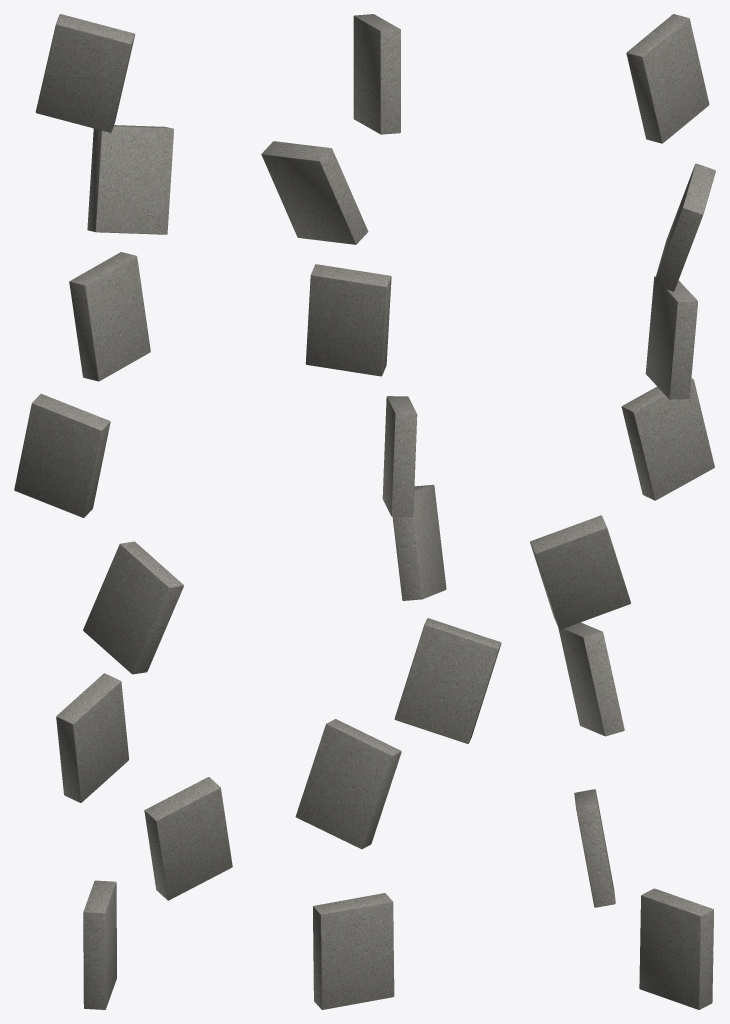
The model's file is ALV-BCO-005_anim.glb.
3 views of the same model, side by side, from view 1: azimuth 30°, elevation 25°; view 2: azimuth 150°, elevation 25°; view 3: azimuth 270°, elevation 25° (orthographic). The views are drawn at different scales.
Visible parts, largest first — view 1: ALV-BCO-005_anim6, ALV-BCO-005_anim4, ALV-BCO-005_anim7, ALV-BCO-005_anim3, ALV-BCO-005_anim5, ALV-BCO-005_anim1, ALV-BCO-005_anim2, ALV-BCO-005_anim0; view 2: ALV-BCO-005_anim1, ALV-BCO-005_anim2, ALV-BCO-005_anim0, ALV-BCO-005_anim5, ALV-BCO-005_anim6, ALV-BCO-005_anim7, ALV-BCO-005_anim3, ALV-BCO-005_anim4; view 3: ALV-BCO-005_anim0, ALV-BCO-005_anim3, ALV-BCO-005_anim4, ALV-BCO-005_anim7, ALV-BCO-005_anim5, ALV-BCO-005_anim2, ALV-BCO-005_anim6, ALV-BCO-005_anim1.
Boxes of the visible parts, x1,y1,x2,y2 form: ALV-BCO-005_anim6: (87,125,173,234); ALV-BCO-005_anim4: (14,393,110,517); ALV-BCO-005_anim7: (35,14,135,132); ALV-BCO-005_anim3: (83,541,183,674); ALV-BCO-005_anim5: (69,252,150,381); ALV-BCO-005_anim1: (144,777,232,900); ALV-BCO-005_anim2: (56,673,129,802); ALV-BCO-005_anim0: (83,880,116,1009); ALV-BCO-005_anim1: (295,719,401,849); ALV-BCO-005_anim2: (394,618,501,743); ALV-BCO-005_anim0: (313,893,394,1009); ALV-BCO-005_anim5: (305,264,391,376); ALV-BCO-005_anim6: (261,141,368,244); ALV-BCO-005_anim7: (353,14,400,134); ALV-BCO-005_anim3: (392,484,446,600); ALV-BCO-005_anim4: (382,396,417,516); ALV-BCO-005_anim0: (639,888,713,1009); ALV-BCO-005_anim3: (530,515,630,629); ALV-BCO-005_anim4: (621,378,714,500); ALV-BCO-005_anim7: (626,14,709,143); ALV-BCO-005_anim5: (645,276,697,399); ALV-BCO-005_anim2: (558,622,624,736); ALV-BCO-005_anim6: (653,163,715,291); ALV-BCO-005_anim1: (574,789,615,907).
Size of the model in its own units: 0.3809 by 1.93 by 0.3382.
Materials: 1 (1 with a texture image).
